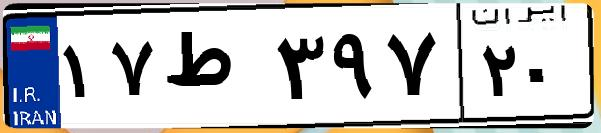0: (525, 38, 570, 115)
1: (57, 26, 110, 100)
2: (475, 38, 525, 113)
3: (270, 28, 330, 110)
7: (385, 28, 445, 110), (110, 28, 158, 98)
9: (330, 28, 385, 110)
ط: (158, 20, 270, 120)
